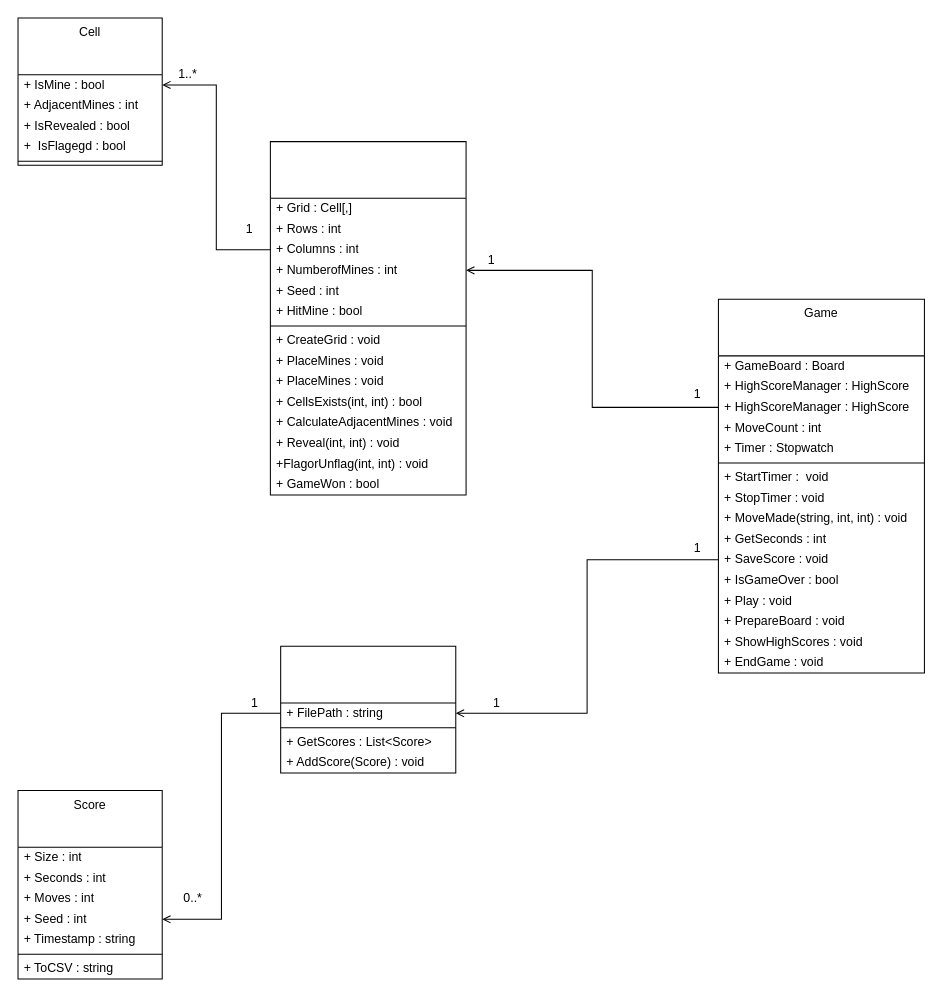
Some shapes in this 942 by 997 pixel diagram are drawn without their labels. Here are the shapes that lost their labels. From the top down, the box of each, then its label:
(269, 141, 466, 495): Board
(280, 645, 456, 773): HighScore
